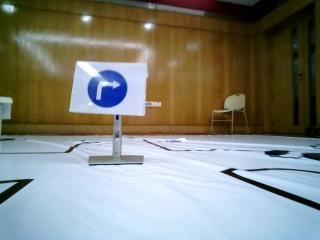right: (75, 62, 143, 116)
